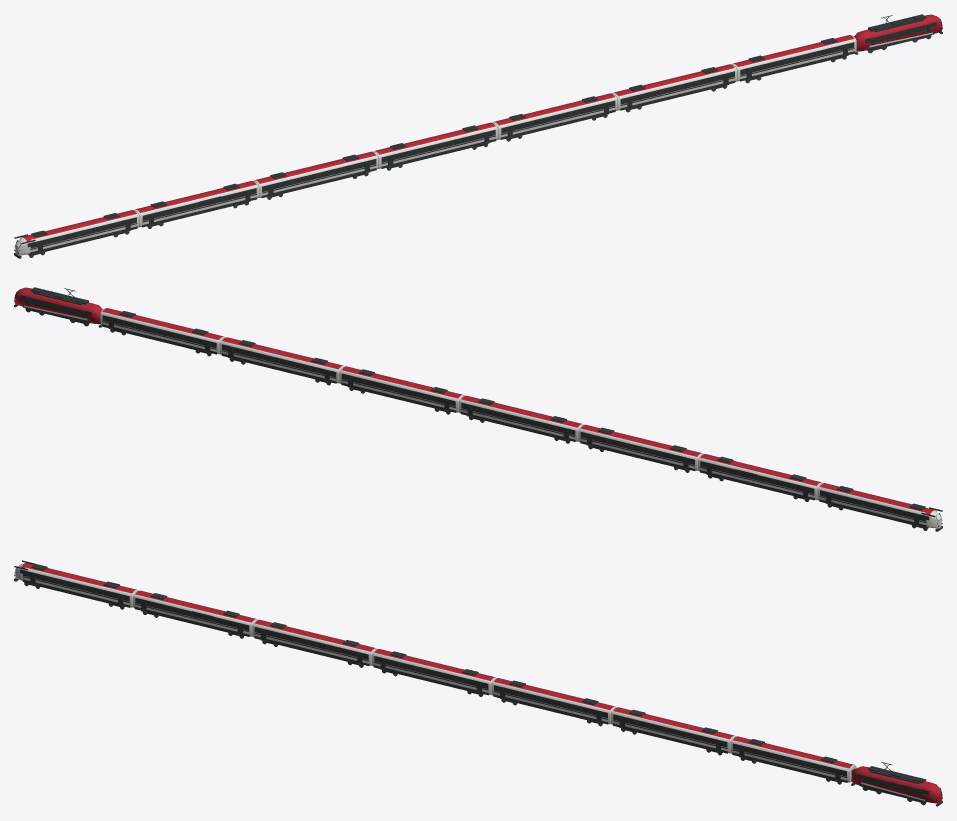
The model's file is railjet-classic-blender.glb.
3 views of the same model, one above another, from view 1: azimuth 30°, elevation 25°; view 2: azimuth 150°, elevation 25°; view 3: azimuth 330°, elevation 25° (orthographic).
Parts seen in each view (by area): view 1: driving_trailer_lofted_body.001, taurus_lofted_body.001, railjet_economy_lofted_body.002, railjet_economy_lofted_body.001, railjet_economy_lofted_body.003, railjet_economy_lofted_body.004, railjet_restaurant_lofted_body.001, railjet_first_lofted_body.001, economy_red_roof.001, economy_red_roof.003, economy_red_roof.004, restaurant_red_roof.001 (+3 smaller); view 2: driving_trailer_lofted_body.001, taurus_lofted_body.001, railjet_economy_lofted_body.002, railjet_economy_lofted_body.001, railjet_economy_lofted_body.003, railjet_economy_lofted_body.004, railjet_restaurant_lofted_body.001, railjet_first_lofted_body.001, economy_red_roof.001, economy_red_roof.003, economy_red_roof.004, restaurant_red_roof.001 (+3 smaller); view 3: taurus_lofted_body.001, railjet_economy_lofted_body.001, railjet_restaurant_lofted_body.001, railjet_economy_lofted_body.002, railjet_economy_lofted_body.003, railjet_economy_lofted_body.004, railjet_first_lofted_body.001, driving_trailer_lofted_body.001, economy_red_roof.001, restaurant_red_roof.001, economy_red_roof.002, economy_red_roof.003 (+3 smaller).
Boxes of the visible parts, x1,y1,x2,y2 form: driving_trailer_lofted_body.001: [15, 210, 139, 255]; taurus_lofted_body.001: [854, 14, 942, 51]; railjet_economy_lofted_body.002: [612, 64, 737, 110]; railjet_economy_lofted_body.001: [732, 35, 856, 81]; railjet_economy_lofted_body.003: [493, 93, 617, 139]; railjet_economy_lofted_body.004: [373, 122, 497, 168]; railjet_restaurant_lofted_body.001: [253, 151, 378, 197]; railjet_first_lofted_body.001: [134, 181, 258, 227]; economy_red_roof.001: [733, 35, 855, 66]; economy_red_roof.003: [494, 93, 614, 125]; economy_red_roof.004: [375, 122, 495, 154]; restaurant_red_roof.001: [255, 151, 375, 183]; driving_trailer_lofted_body.001: [817, 483, 941, 528]; taurus_lofted_body.001: [14, 287, 102, 324]; railjet_economy_lofted_body.002: [219, 337, 344, 383]; railjet_economy_lofted_body.001: [100, 308, 224, 354]; railjet_economy_lofted_body.003: [339, 366, 463, 412]; railjet_economy_lofted_body.004: [459, 395, 583, 441]; railjet_restaurant_lofted_body.001: [578, 424, 703, 470]; railjet_first_lofted_body.001: [698, 454, 822, 500]; economy_red_roof.001: [101, 308, 223, 339]; economy_red_roof.003: [342, 366, 462, 398]; economy_red_roof.004: [461, 395, 581, 427]; restaurant_red_roof.001: [581, 424, 701, 456]; taurus_lofted_body.001: [852, 766, 942, 803]; railjet_economy_lofted_body.001: [730, 736, 856, 782]; railjet_restaurant_lofted_body.001: [252, 619, 377, 665]; railjet_economy_lofted_body.002: [611, 707, 735, 753]; railjet_economy_lofted_body.003: [491, 678, 616, 724]; railjet_economy_lofted_body.004: [372, 649, 496, 695]; railjet_first_lofted_body.001: [133, 590, 257, 636]; driving_trailer_lofted_body.001: [15, 564, 137, 607]; economy_red_roof.001: [732, 736, 854, 768]; restaurant_red_roof.001: [254, 619, 375, 653]; economy_red_roof.002: [613, 707, 733, 739]; economy_red_roof.003: [494, 678, 614, 711].
Size of the model in its own units: 206 by 6.38 by 3.35.
